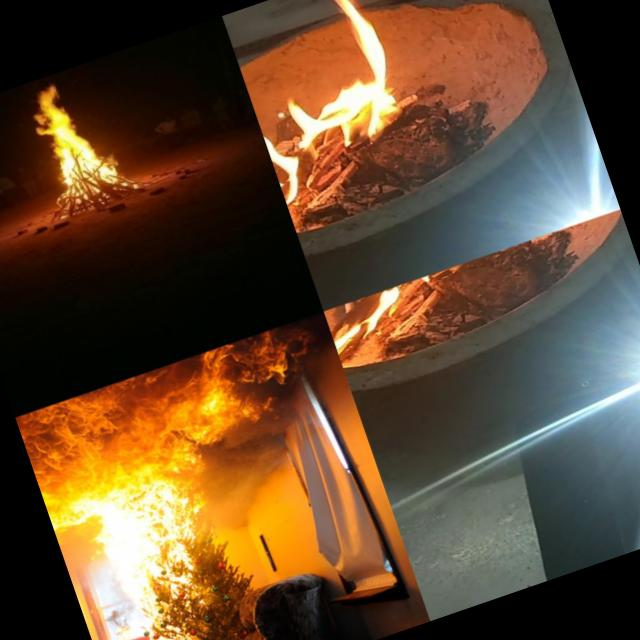fire: (15, 322, 320, 499), (223, 0, 436, 215), (64, 447, 258, 640), (324, 247, 526, 360), (22, 73, 122, 208), (44, 493, 80, 544)
smoke: (194, 411, 331, 536), (59, 536, 95, 588)
